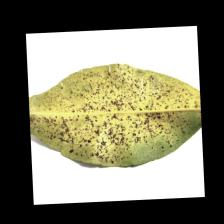canker: (65, 82, 156, 145)
